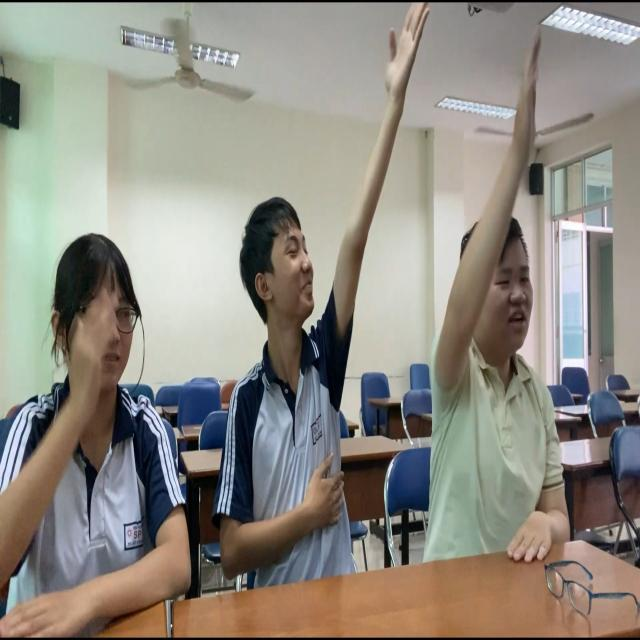raise_hand: (226, 3, 429, 585), (433, 10, 594, 585), (1, 219, 189, 631)
